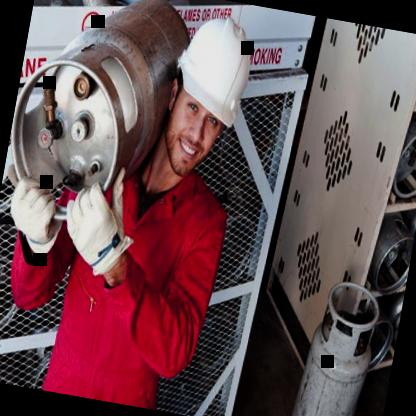helmet: (158, 8, 260, 183)
